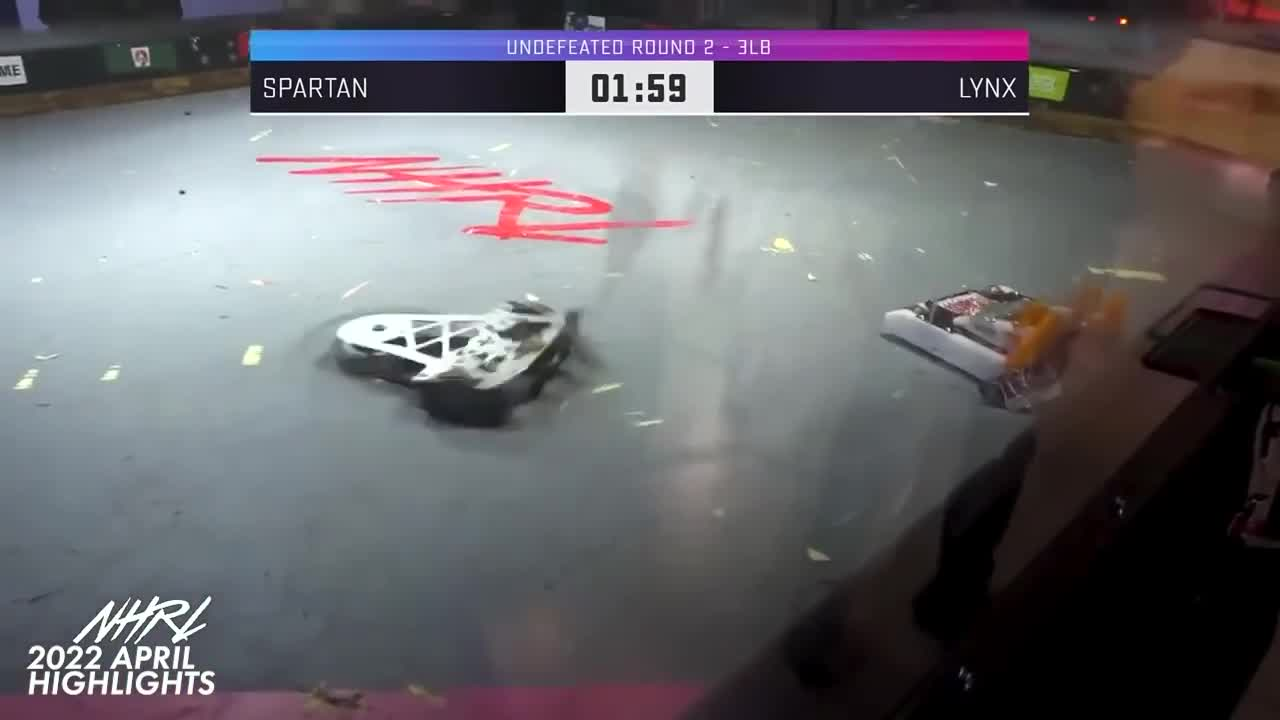combatbot: (331, 297, 588, 431), (880, 283, 1078, 408)
